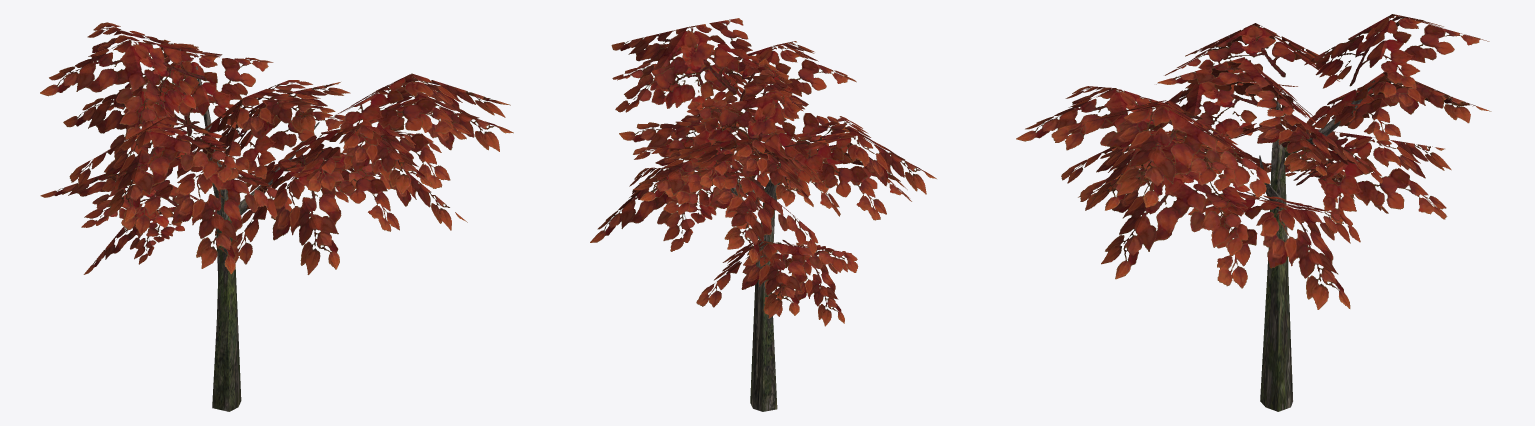
Rendered from a_zhiwu_011.fbx.
3 renders of one model, left to right at view 1: azimuth 30°, elevation 25°; view 2: azimuth 150°, elevation 25°; view 3: azimuth 270°, elevation 25°, orthographic. The views are drawn at different scales.
Parts seen in each view (by area): view 1: a_zhiwu_011; view 2: a_zhiwu_011; view 3: a_zhiwu_011.
Boxes of the visible parts, <box> form: a_zhiwu_011: <box>40,22,513,411</box>; a_zhiwu_011: <box>590,18,936,411</box>; a_zhiwu_011: <box>1016,14,1491,411</box>.
Size of the model in its own units: 8.98 by 7.08 by 9.27.
